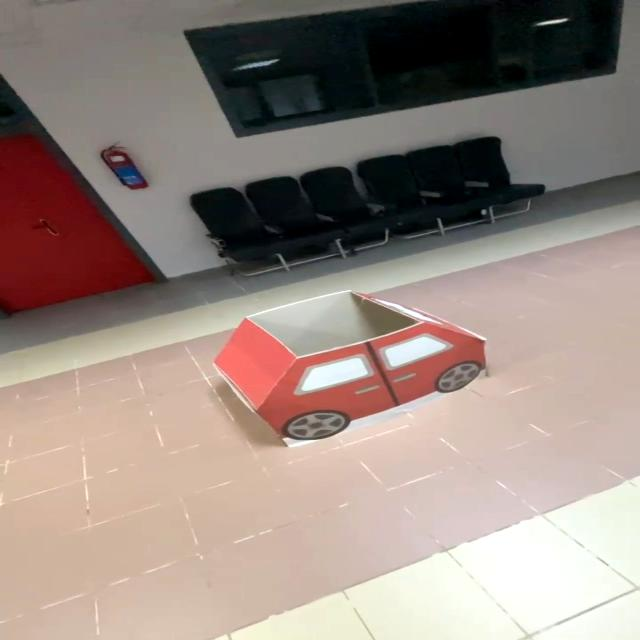red_car: (181, 281, 536, 462)
